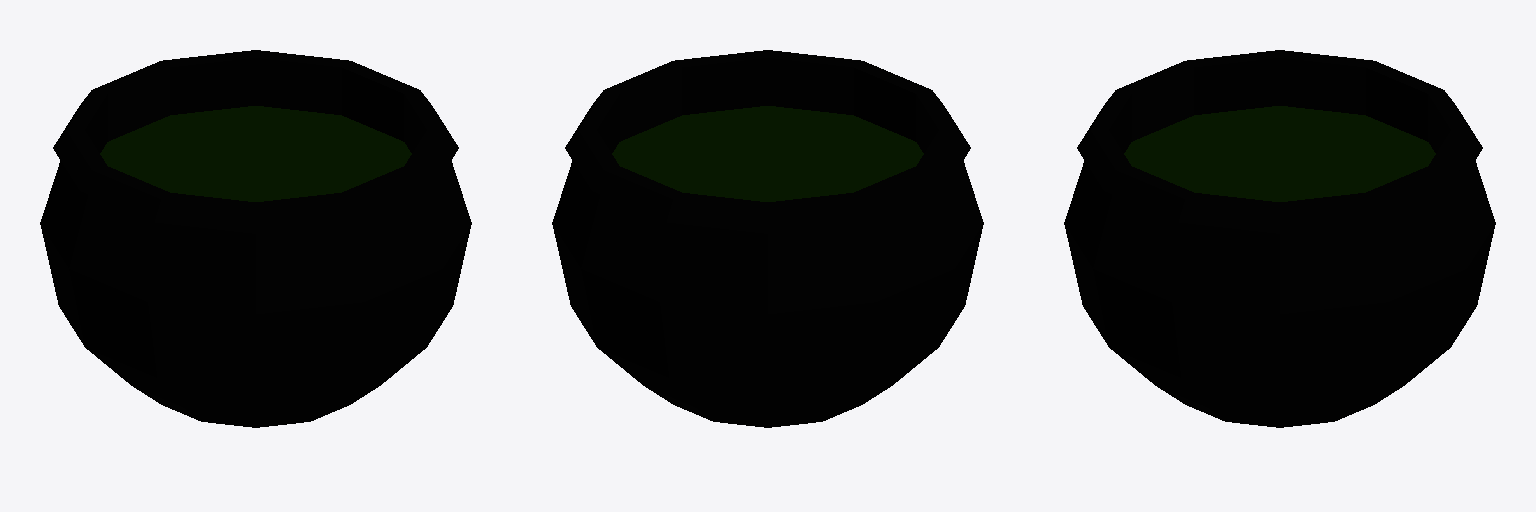
The model's file is Cauldron.obj.
3 renders of one model, left to right at view 1: azimuth 30°, elevation 25°; view 2: azimuth 150°, elevation 25°; view 3: azimuth 270°, elevation 25°, orthographic.
Visible parts, largest first — view 1: Cauldron_Circle; view 2: Cauldron_Circle; view 3: Cauldron_Circle.
Boxes of the visible parts, <box> form: Cauldron_Circle: <box>40,50,471,427</box>; Cauldron_Circle: <box>552,50,983,427</box>; Cauldron_Circle: <box>1064,50,1495,427</box>.
Size of the model in its own units: 1.79 by 1.15 by 1.79.